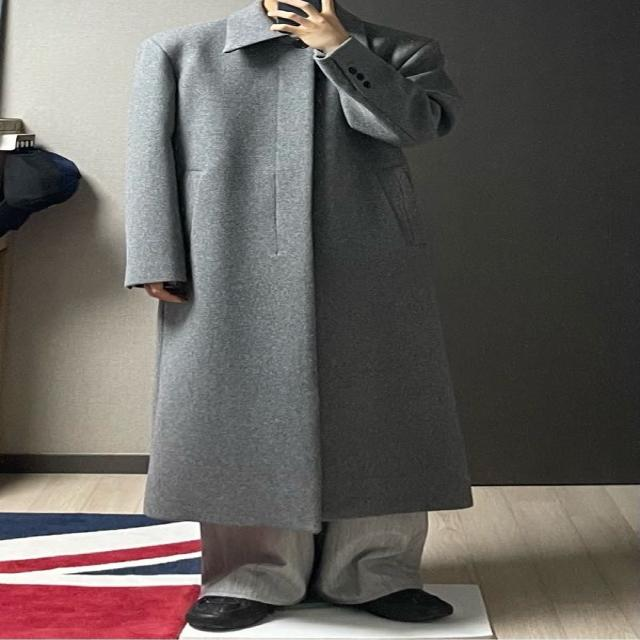coat: (124, 0, 472, 535)
cottonpants: (194, 506, 428, 606)
